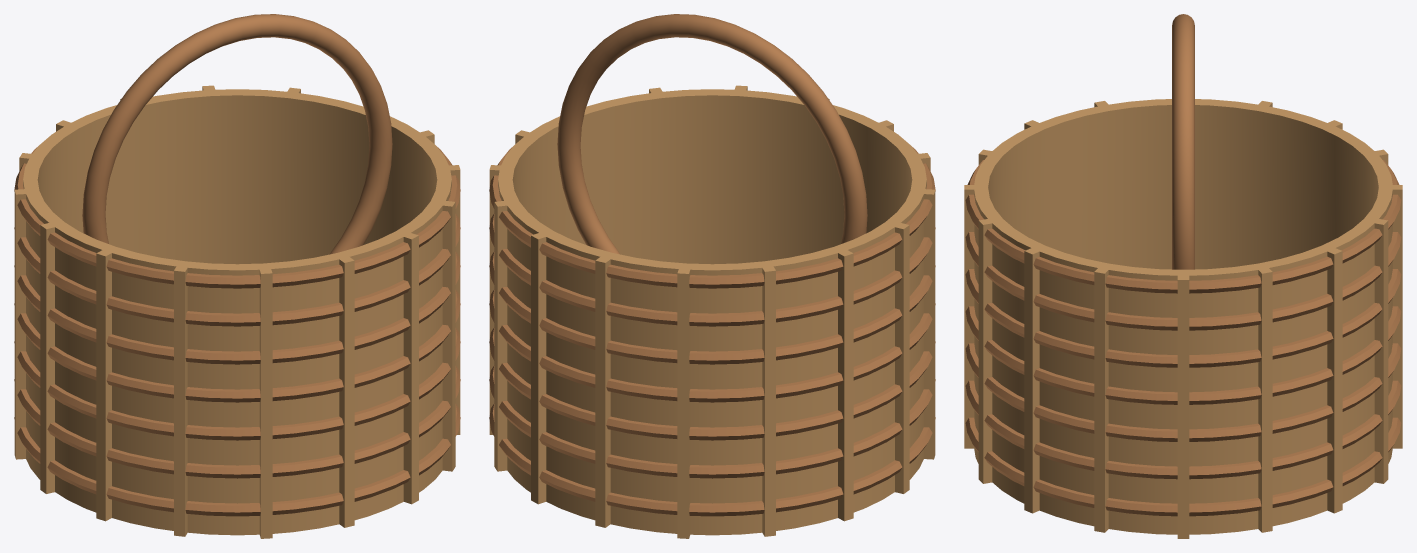
The model's file is basket.glb.
3 renders of one model, left to right at view 1: azimuth 30°, elevation 25°; view 2: azimuth 150°, elevation 25°; view 3: azimuth 270°, elevation 25°, orthographic. The views are drawn at different scales.
Visible parts, largest first — view 1: wall, handle.002, weave6, weave1, weave2, weave5, weave0, weave3, weave4, rib12, rib9, rib13 (+6 smaller); view 2: wall, handle.002, weave6, weave1, weave2, weave5, weave0, weave3, weave4, rib4.001, rib7, rib3.001 (+6 smaller); view 3: wall, handle.002, weave6, weave4, weave5, weave0, weave3, weave2, weave1, rib2.001, rib14, rib1.001 (+6 smaller).
Part boxes in pixels (x1,y1,x2,y2): wall: [23, 89, 451, 535]; handle.002: [82, 14, 392, 254]; weave6: [14, 146, 460, 288]; weave1: [14, 365, 460, 478]; weave2: [14, 327, 460, 440]; weave5: [14, 213, 460, 326]; weave0: [14, 403, 460, 516]; weave3: [14, 289, 460, 402]; weave4: [14, 251, 460, 364]; rib12: [339, 256, 354, 527]; rib9: [96, 249, 112, 521]; rib13: [403, 232, 418, 504]; wall: [498, 89, 926, 535]; handle.002: [557, 14, 867, 254]; weave6: [489, 146, 935, 288]; weave1: [489, 365, 935, 478]; weave2: [489, 327, 935, 440]; weave5: [489, 213, 935, 326]; weave0: [489, 403, 935, 516]; weave3: [489, 289, 935, 402]; weave4: [489, 251, 935, 364]; rib4.001: [595, 256, 610, 527]; rib7: [838, 249, 853, 521]; rib3.001: [531, 232, 546, 504]; wall: [974, 99, 1392, 534]; handle.002: [1172, 14, 1194, 269]; weave6: [965, 160, 1401, 293]; weave4: [965, 269, 1401, 367]; weave5: [965, 232, 1401, 330]; weave0: [965, 417, 1401, 516]; weave3: [965, 306, 1401, 404]; weave2: [965, 343, 1401, 441]; weave1: [965, 380, 1401, 479]; rib2.001: [1327, 248, 1342, 513]; rib14: [1024, 248, 1039, 513]; rib1.001: [1258, 268, 1272, 532].
Size of the model in its own units: 0.46 by 0.482 by 0.46.
